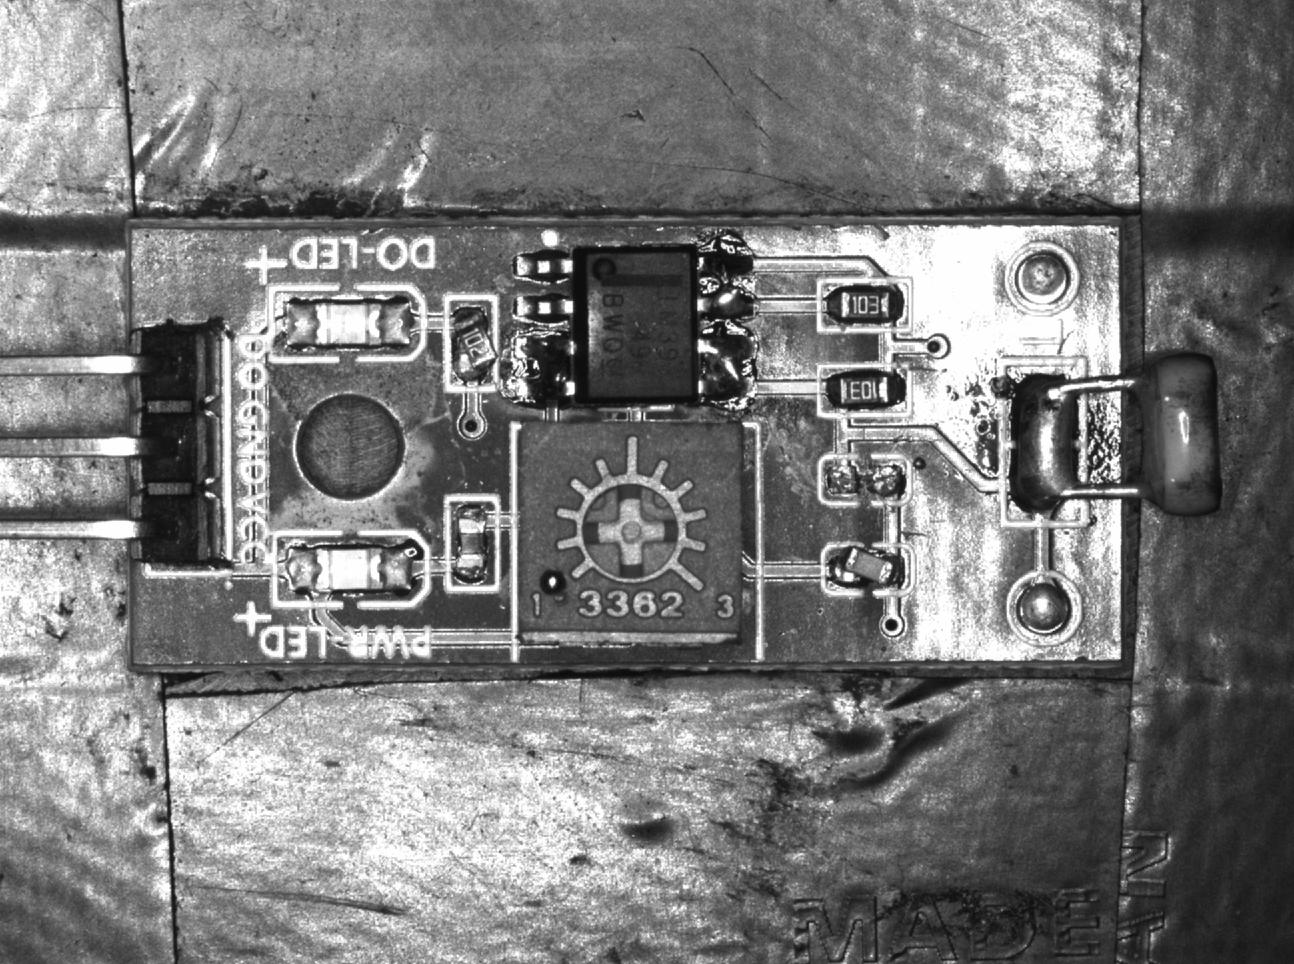bridge: (1001, 354, 1094, 530), (693, 244, 758, 320), (523, 336, 585, 409), (699, 331, 759, 401)
lifted: (446, 294, 496, 390), (821, 545, 912, 592)
miss: (446, 497, 500, 595), (821, 453, 910, 507)
ok: (818, 278, 911, 333), (819, 364, 912, 416)
